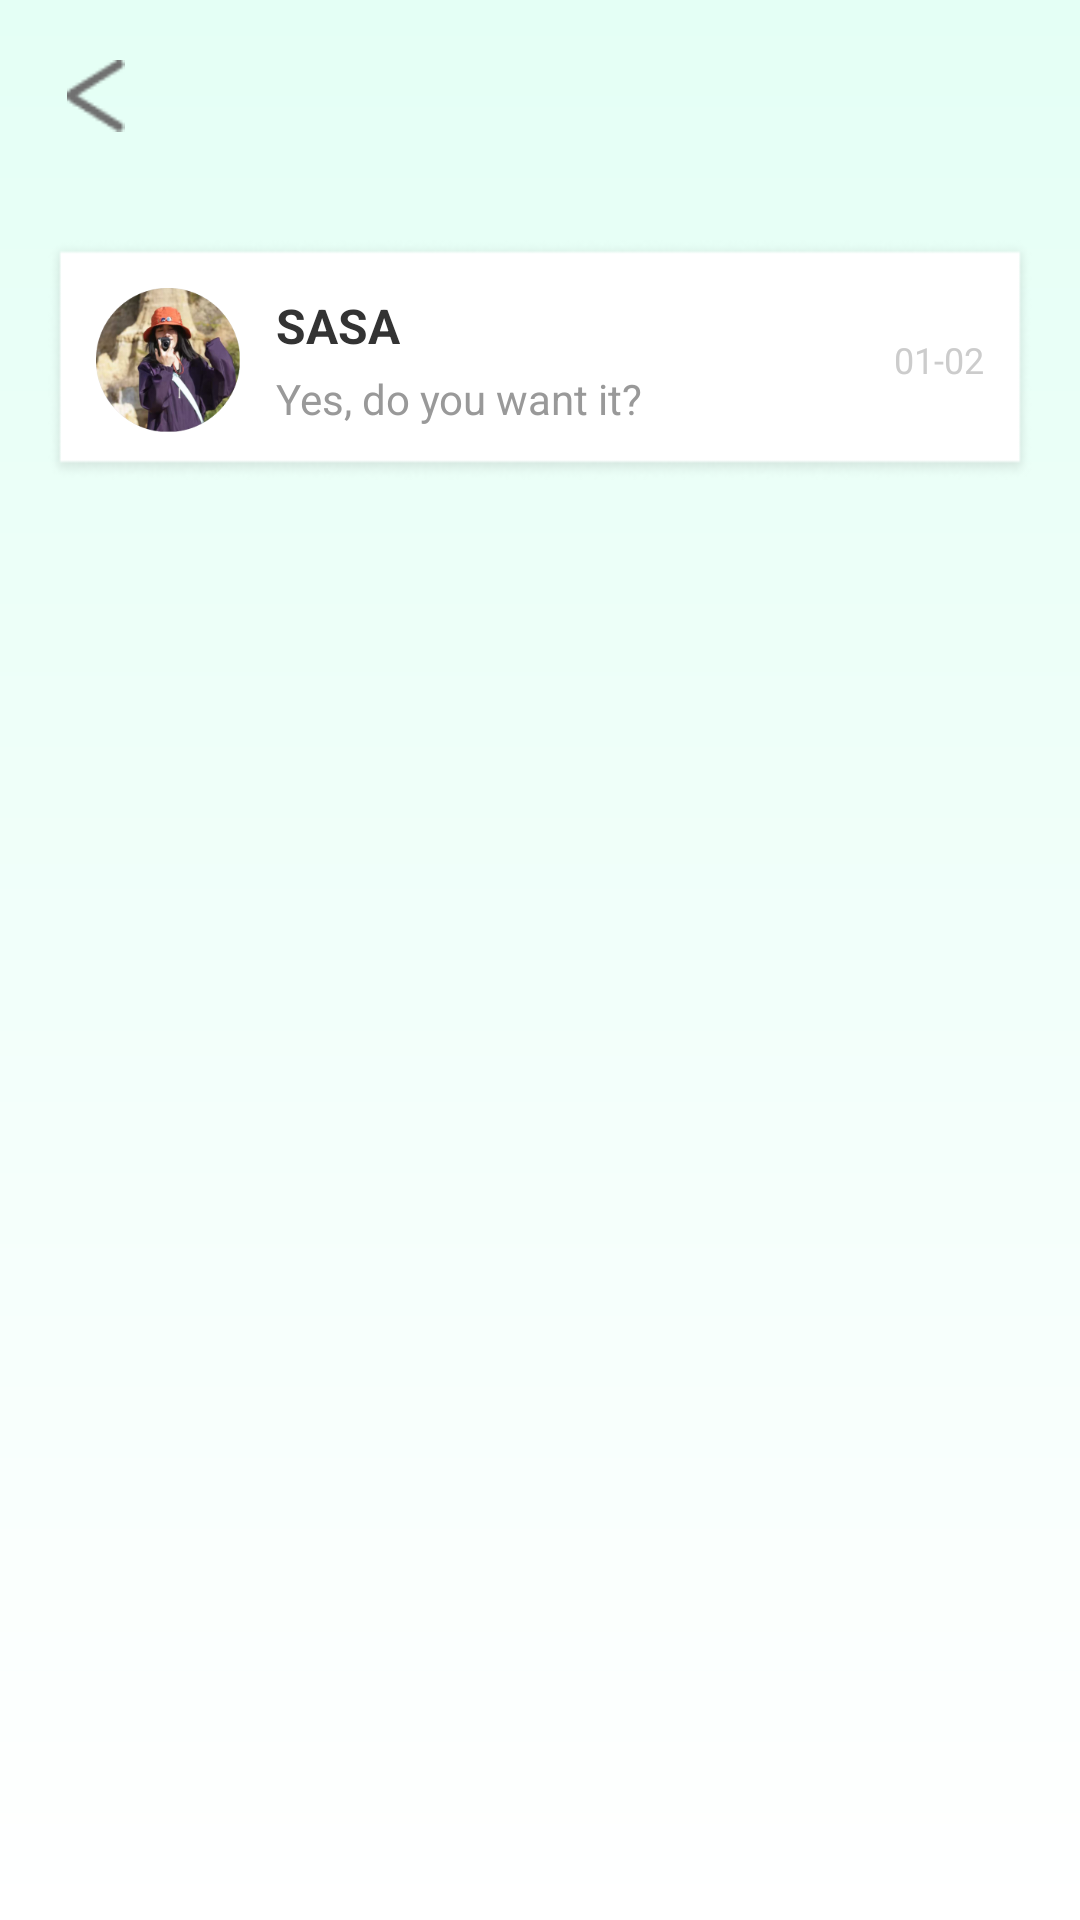

Icons on this 1080 x 1920 Android screen, each with its box as {"left": x1, "top": y1, "right": x2, "bottom": y2}:
back: {"left": 67, "top": 60, "right": 125, "bottom": 132}
